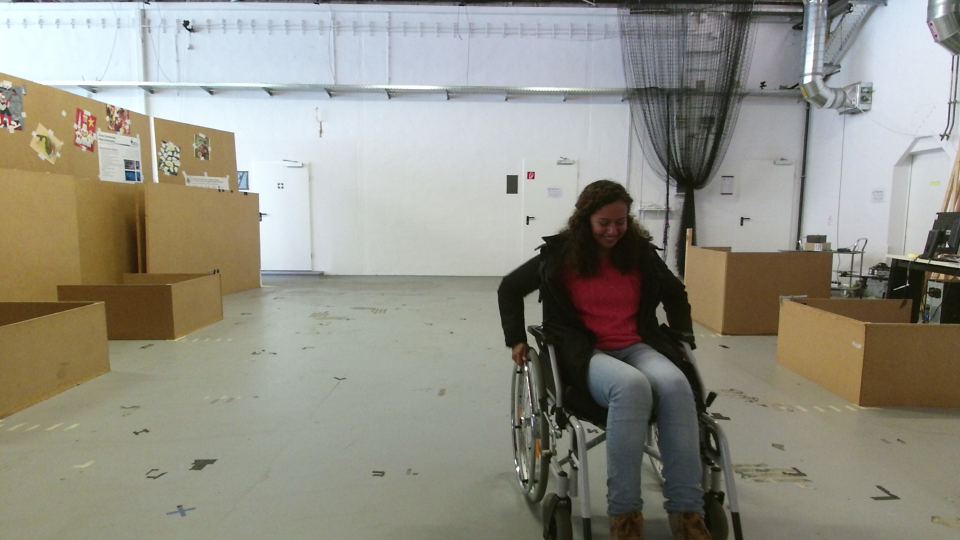wheelchair: (490, 175, 749, 540)
